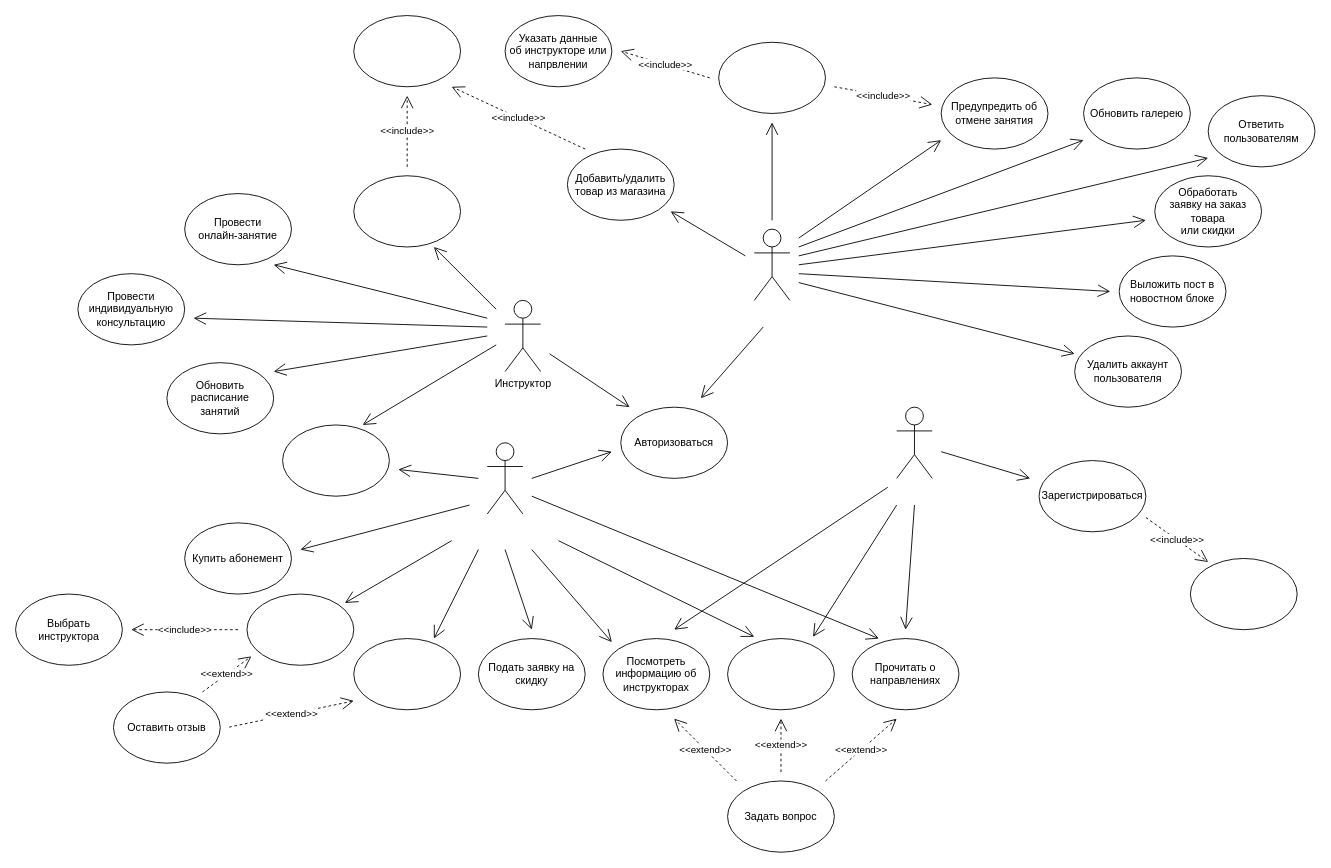
Image size: 1331x868. Some labels were removed from this diagram. Each missing label, with the centre of its shape:
Администратор: (771,264)
Выбрать тип аккаунта ("Клиент" или "Инструктор"): (1243,594)
Выложить видеоурок: (407,211)
Гость: (914,442)
Добавить/удалить инструктора или напрвление: (771,77)
Записаться на занятие: (300,629)
Зарегистрированный пользователь: (504,478)
Купить товар в магазине: (407,674)
Отменить занятие: (335,460)
Посмотреть расписания занятий: (780,674)
Указать цену: (407,51)
